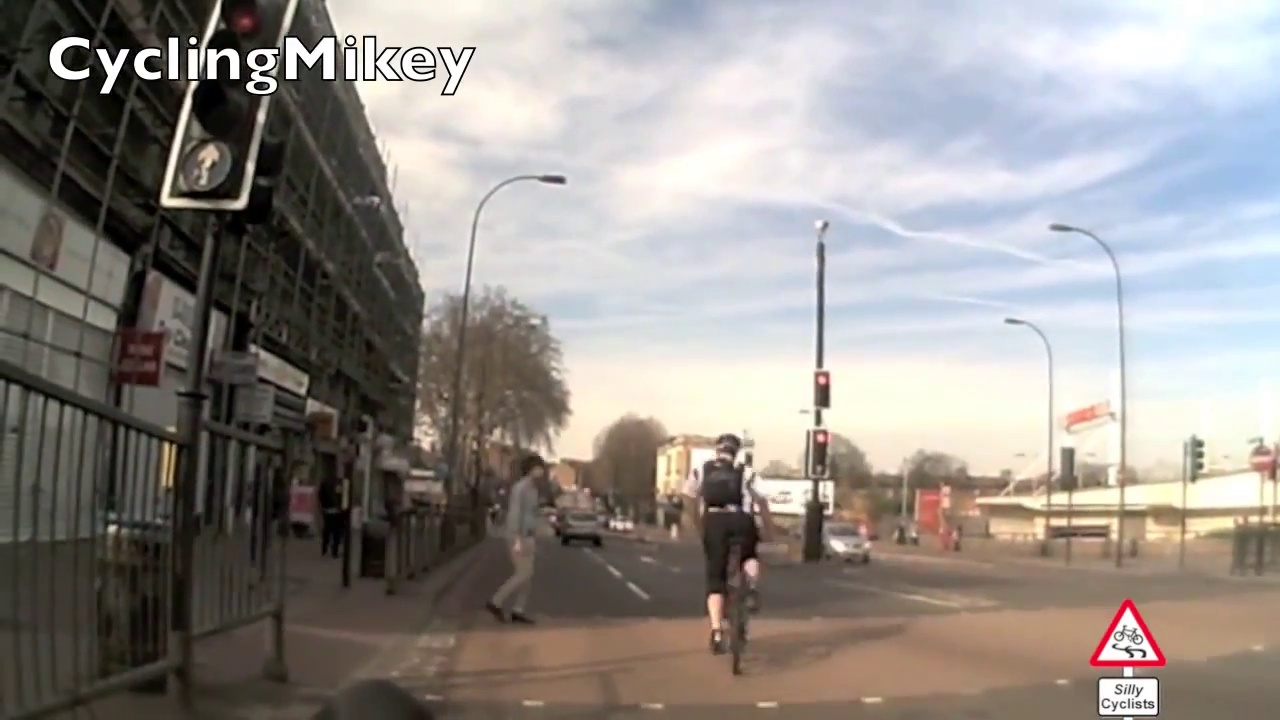cyclist_back: (691, 430, 773, 685)
